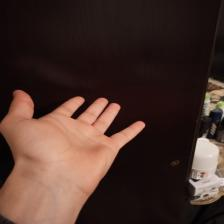five: (2, 87, 148, 174)
